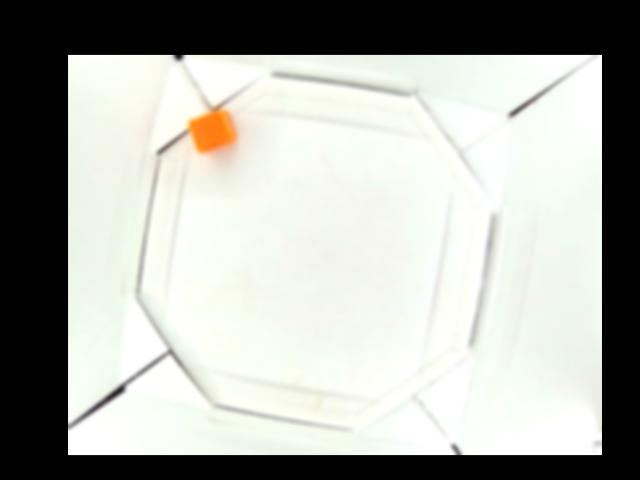Carrot: (187, 109, 235, 154)
